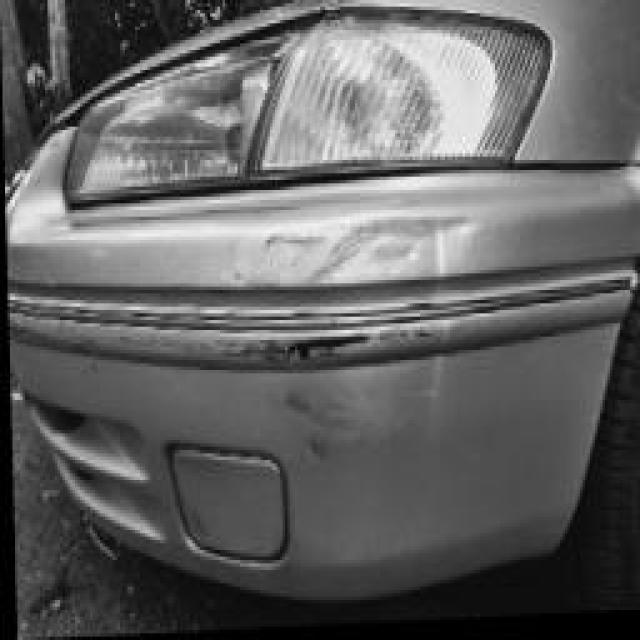Bumper: (18, 193, 601, 606)
